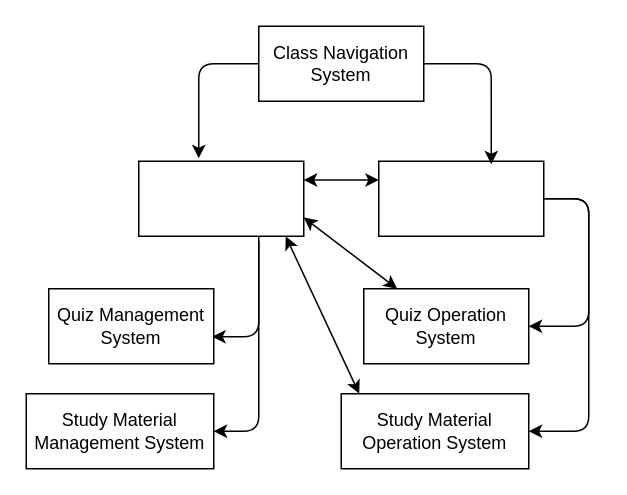
Some shapes in this 627 by 495 pixel diagram are drawn without their labels. The centre of each missing label's shape, as x and y in pixels:
Student Class System: the point at 460,198
Teacher Class System: the point at 220,198
